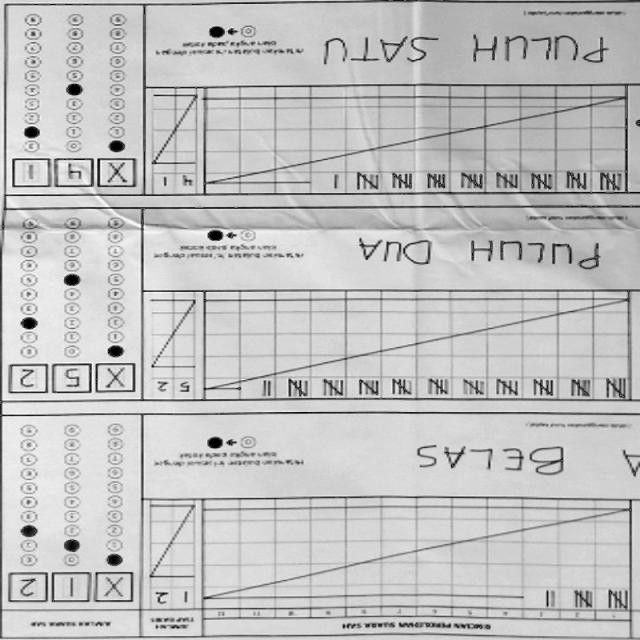Suara: (7, 364, 142, 403), (13, 155, 142, 193), (7, 573, 142, 607)
